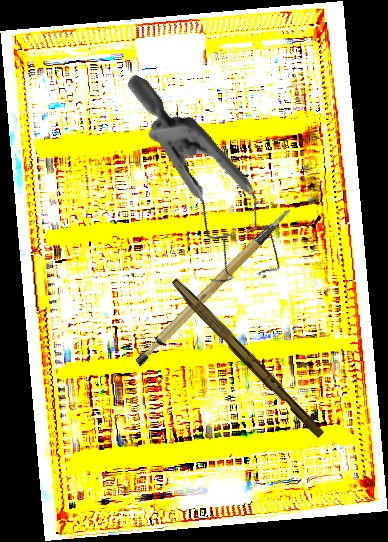Scalpel Handle: (117, 206, 314, 370), (166, 277, 328, 440)
Speculum: (65, 73, 329, 306)
